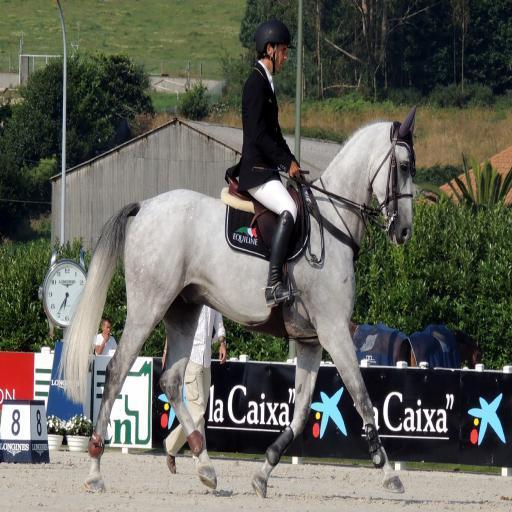horse: (52, 104, 417, 497)
